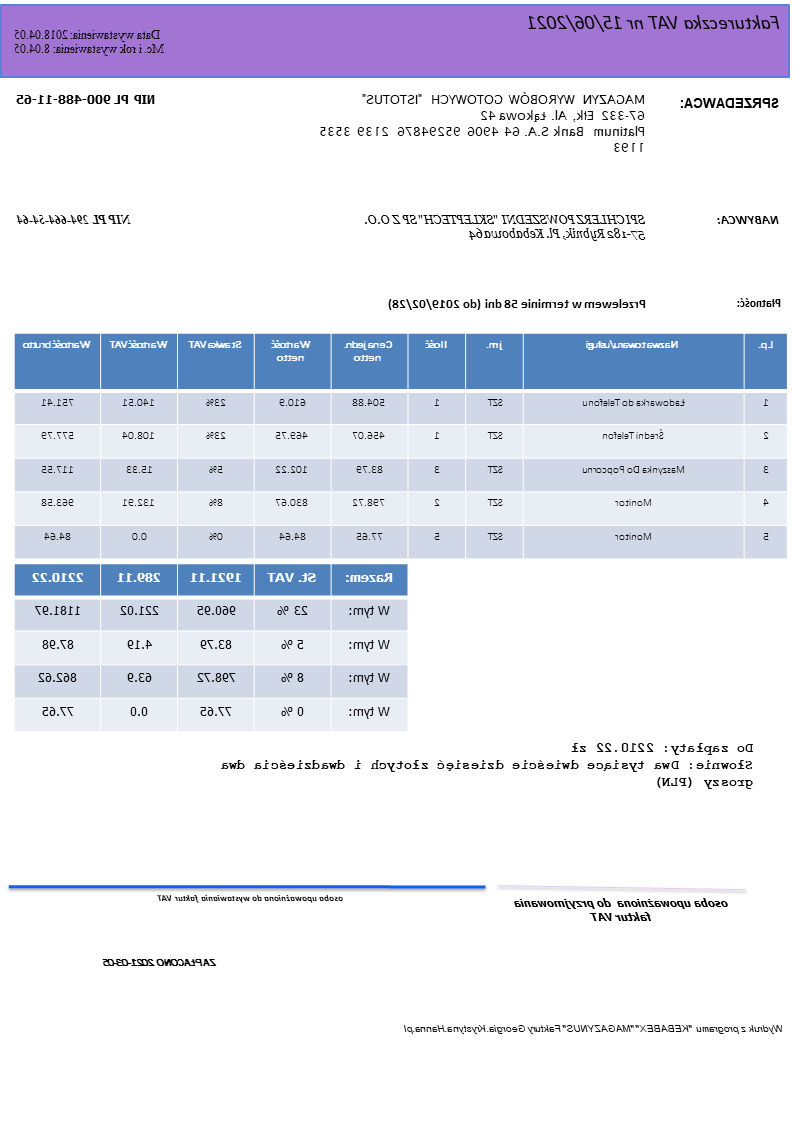Table: (13, 332, 789, 560), (13, 562, 409, 732)
TextBox: (217, 740, 756, 791), (317, 89, 648, 154), (362, 211, 647, 243), (511, 894, 731, 925), (401, 1020, 786, 1036), (526, 12, 782, 33), (12, 25, 166, 55), (387, 297, 648, 311), (15, 91, 159, 108), (155, 892, 346, 904), (678, 92, 782, 112), (16, 211, 133, 228), (102, 954, 219, 970), (715, 212, 782, 227), (735, 294, 783, 311)
